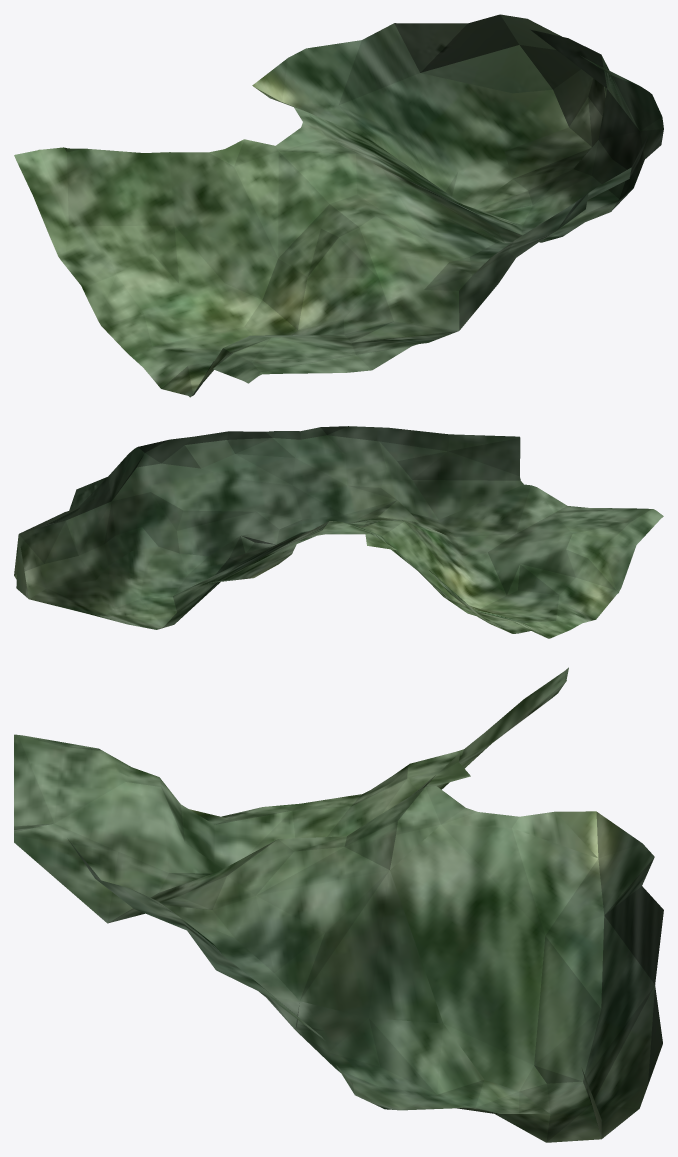
3 views of the same model, one above another, from view 1: azimuth 30°, elevation 25°; view 2: azimuth 150°, elevation 25°; view 3: azimuth 270°, elevation 25° (orthographic). The views are drawn at different scales.
Bounding box in the file's own units: 2.21 × 0.5317 × 1.78.
Materials: 2 (2 with a texture image).
